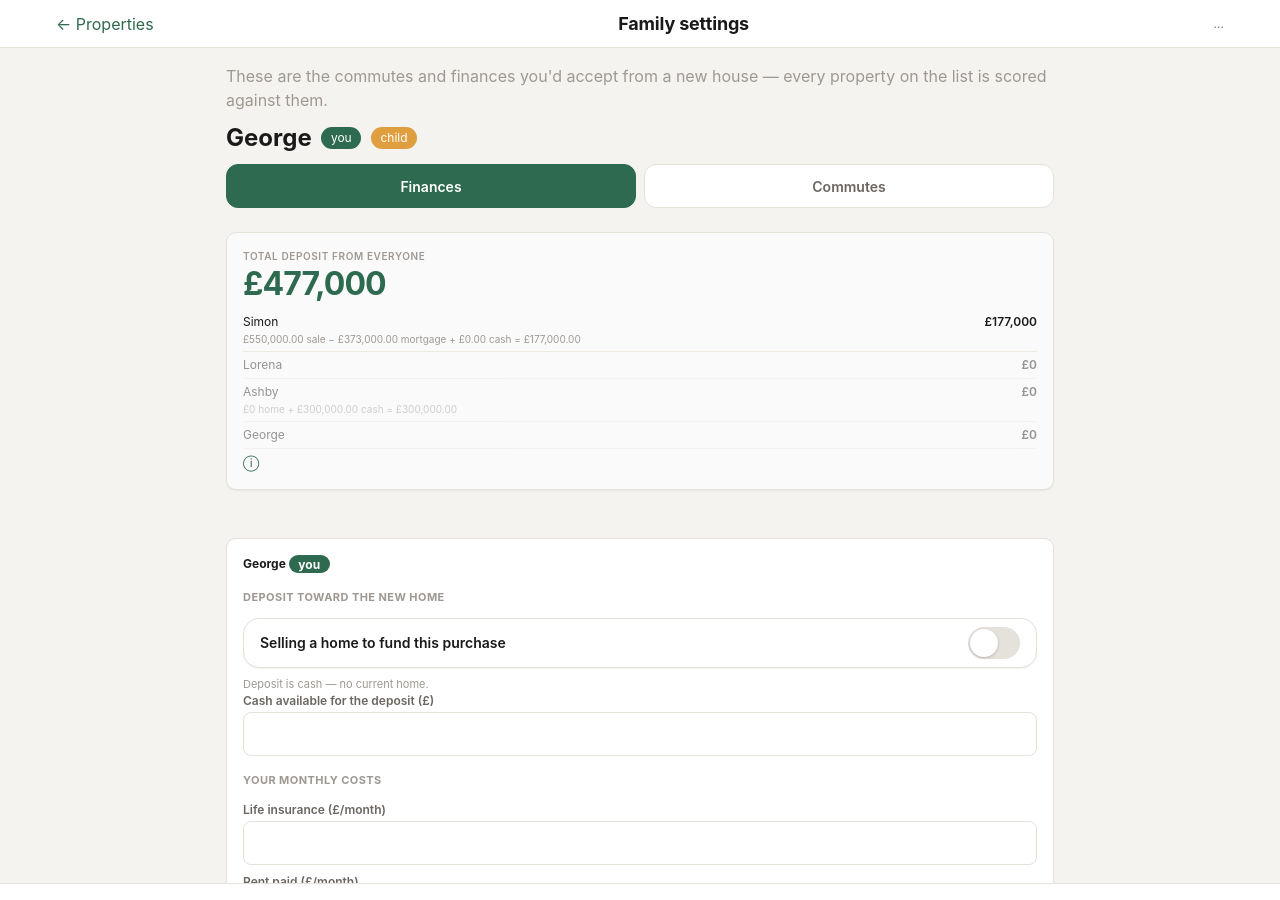
Test case: SettingsView — family sections › renders the school note for a child with no-address POIs
Click the tab "Commutes": (849, 186) [644,164,1054,208]
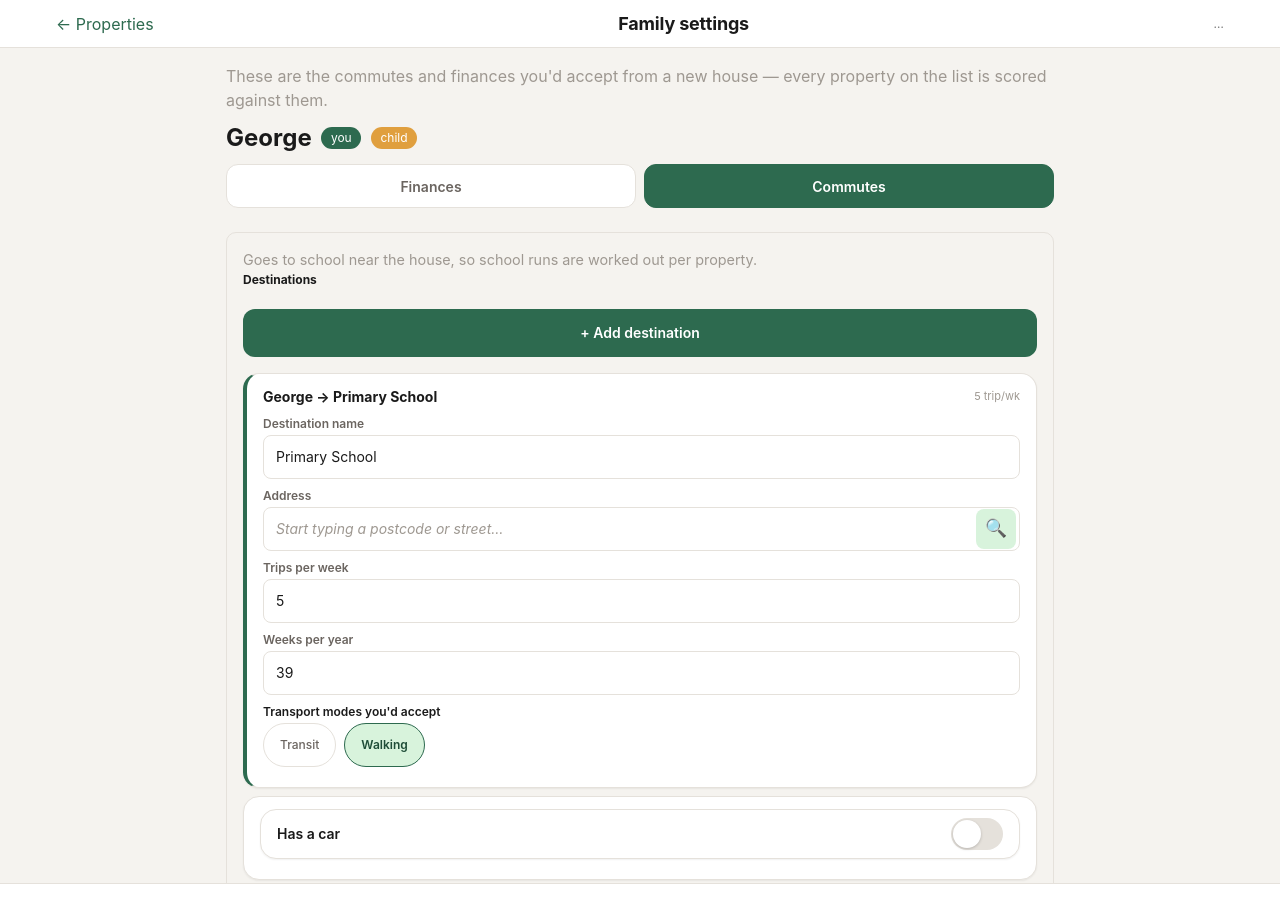
expect the text "Goes to school near the house" is shown: met, box [243,251,757,268]
